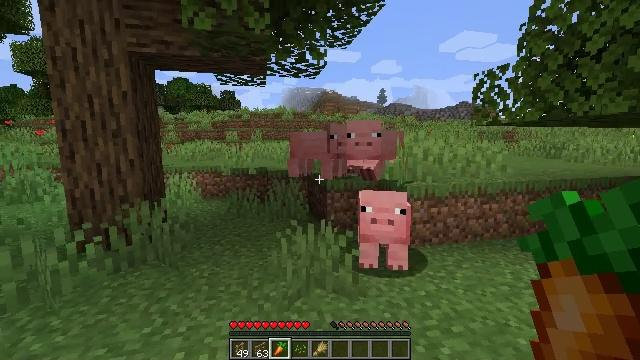pig: (358, 193, 411, 267), (288, 122, 344, 177), (347, 121, 394, 172)
